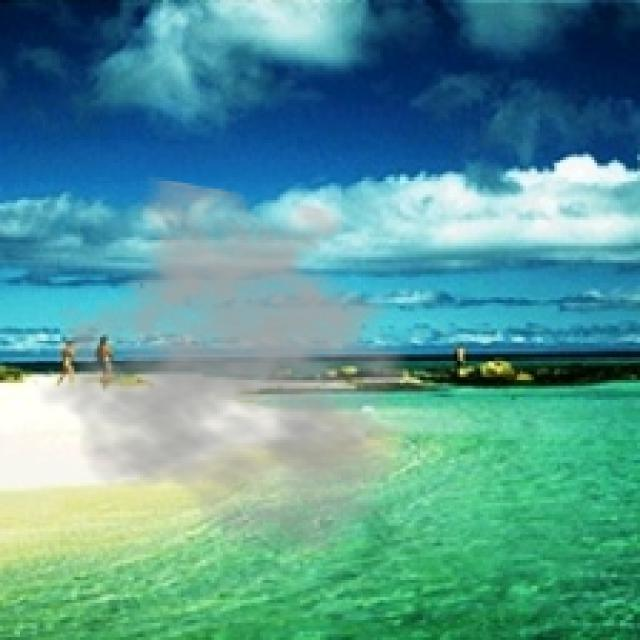smoke: (34, 174, 454, 560)
